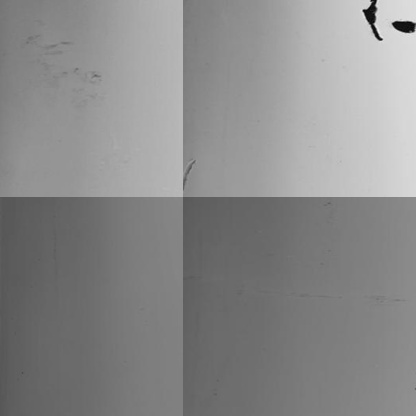kongdong: (360, 1, 382, 43), (388, 16, 414, 33)
sunshang: (181, 157, 199, 193)
